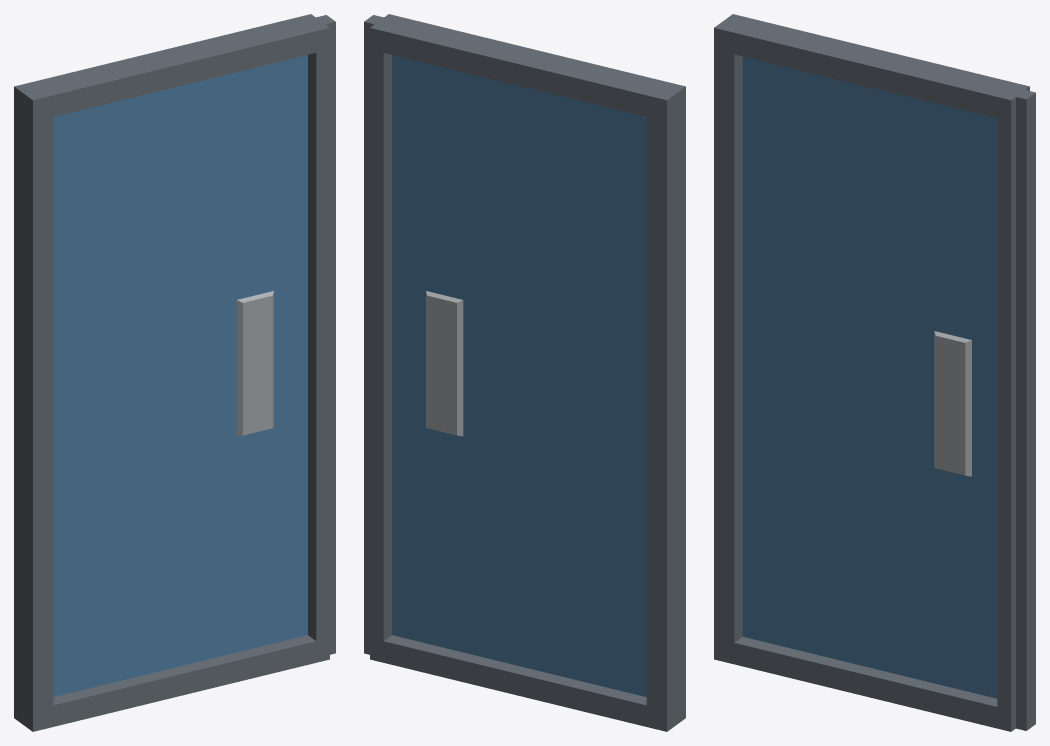
Rendered from Door_03.FBX.
The picture shows the model from 3 angles, left to right: view 1: azimuth 30°, elevation 25°; view 2: azimuth 150°, elevation 25°; view 3: azimuth 330°, elevation 25°; orthographic projection.
Parts seen in each view (by area): view 1: Door_03; view 2: Door_03; view 3: Door_03.
Part boxes in pixels (bbox=[...]): Door_03: bbox=[14, 14, 335, 731]; Door_03: bbox=[364, 14, 685, 731]; Door_03: bbox=[714, 14, 1035, 731].
Size of the model in its own units: 100 by 197 by 10.67.
